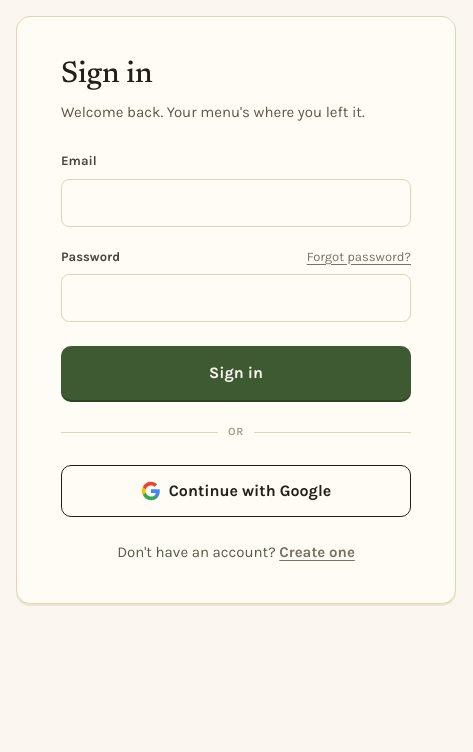
Test: links between the auth pages carry the typed email › from sign in to create an account
This screenshot has width=473, height=752.
Type "jamie@example.com" into the field labelled "Email".
click(236, 202); type("jamie@example.com")  # box [61,178,411,226]
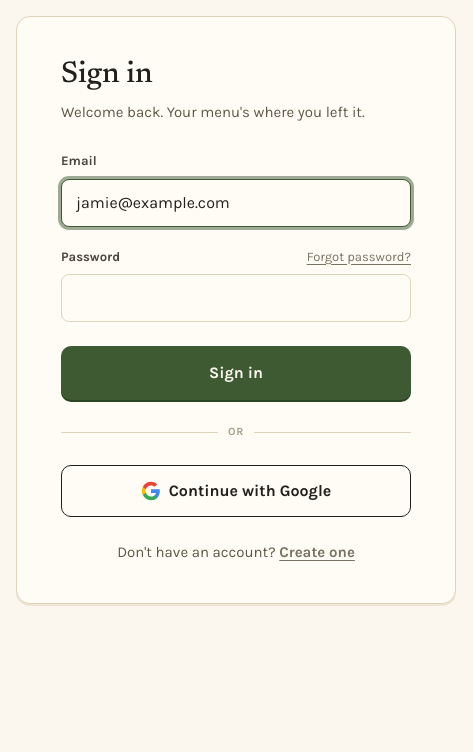
Click the link "Create one".
click(317, 552)  # box [279,542,355,560]
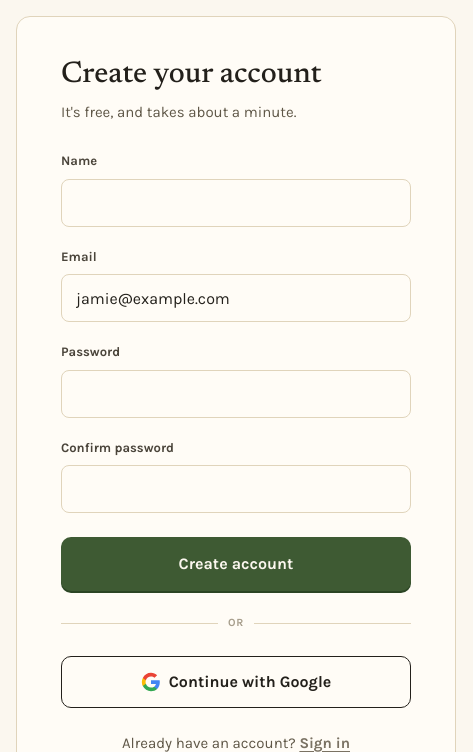
Check: the field labelled "Email" holds "jamie@example.com", box [61,274,411,322]
